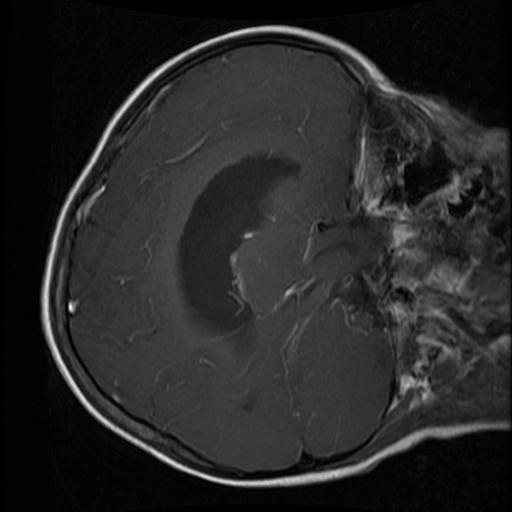glioma: (173, 156, 305, 356)
